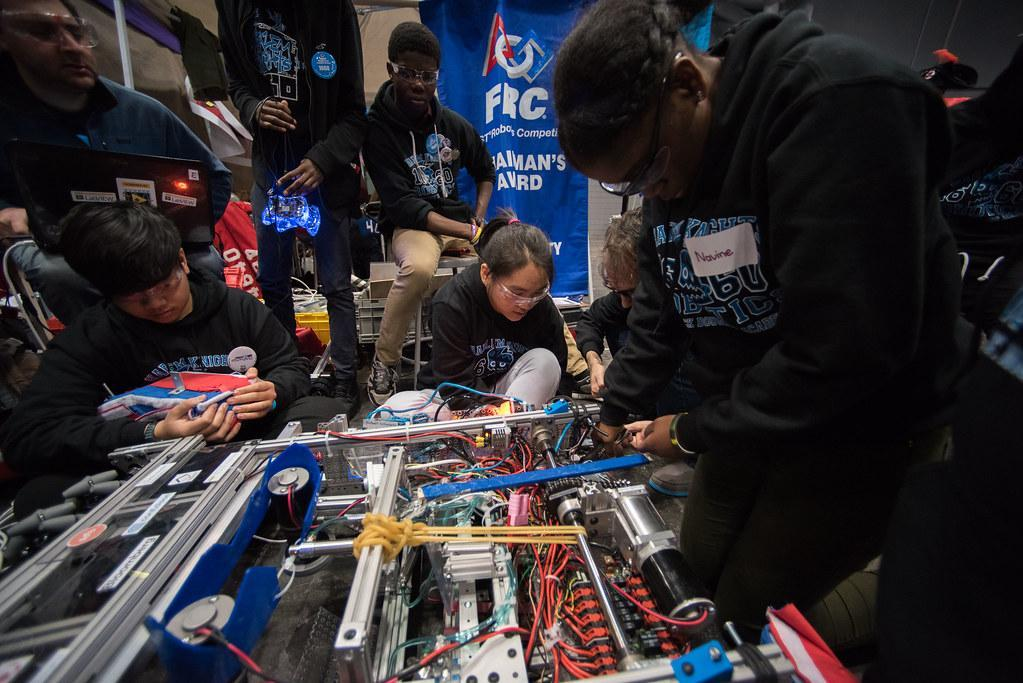robot: (0, 416, 879, 683)
